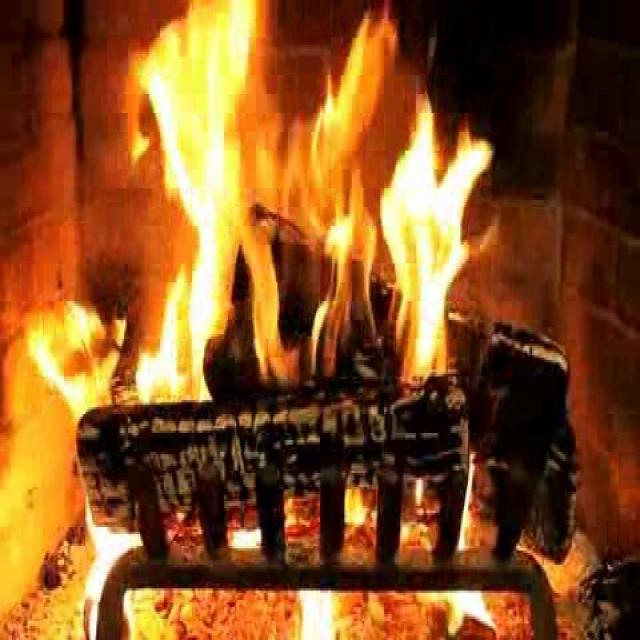Fire: (114, 4, 483, 407)
